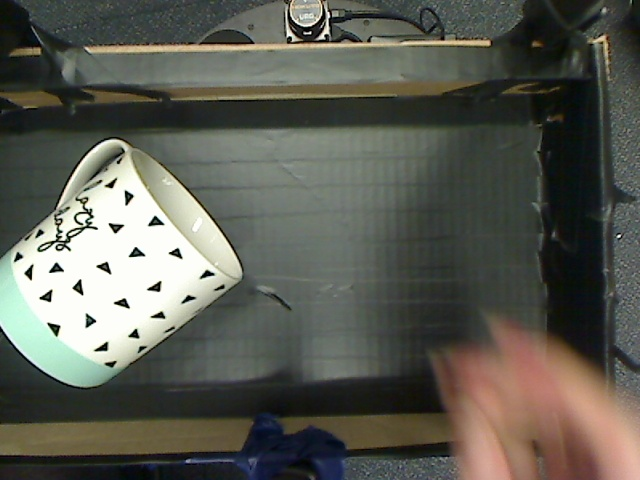mug: (1, 127, 246, 398)
